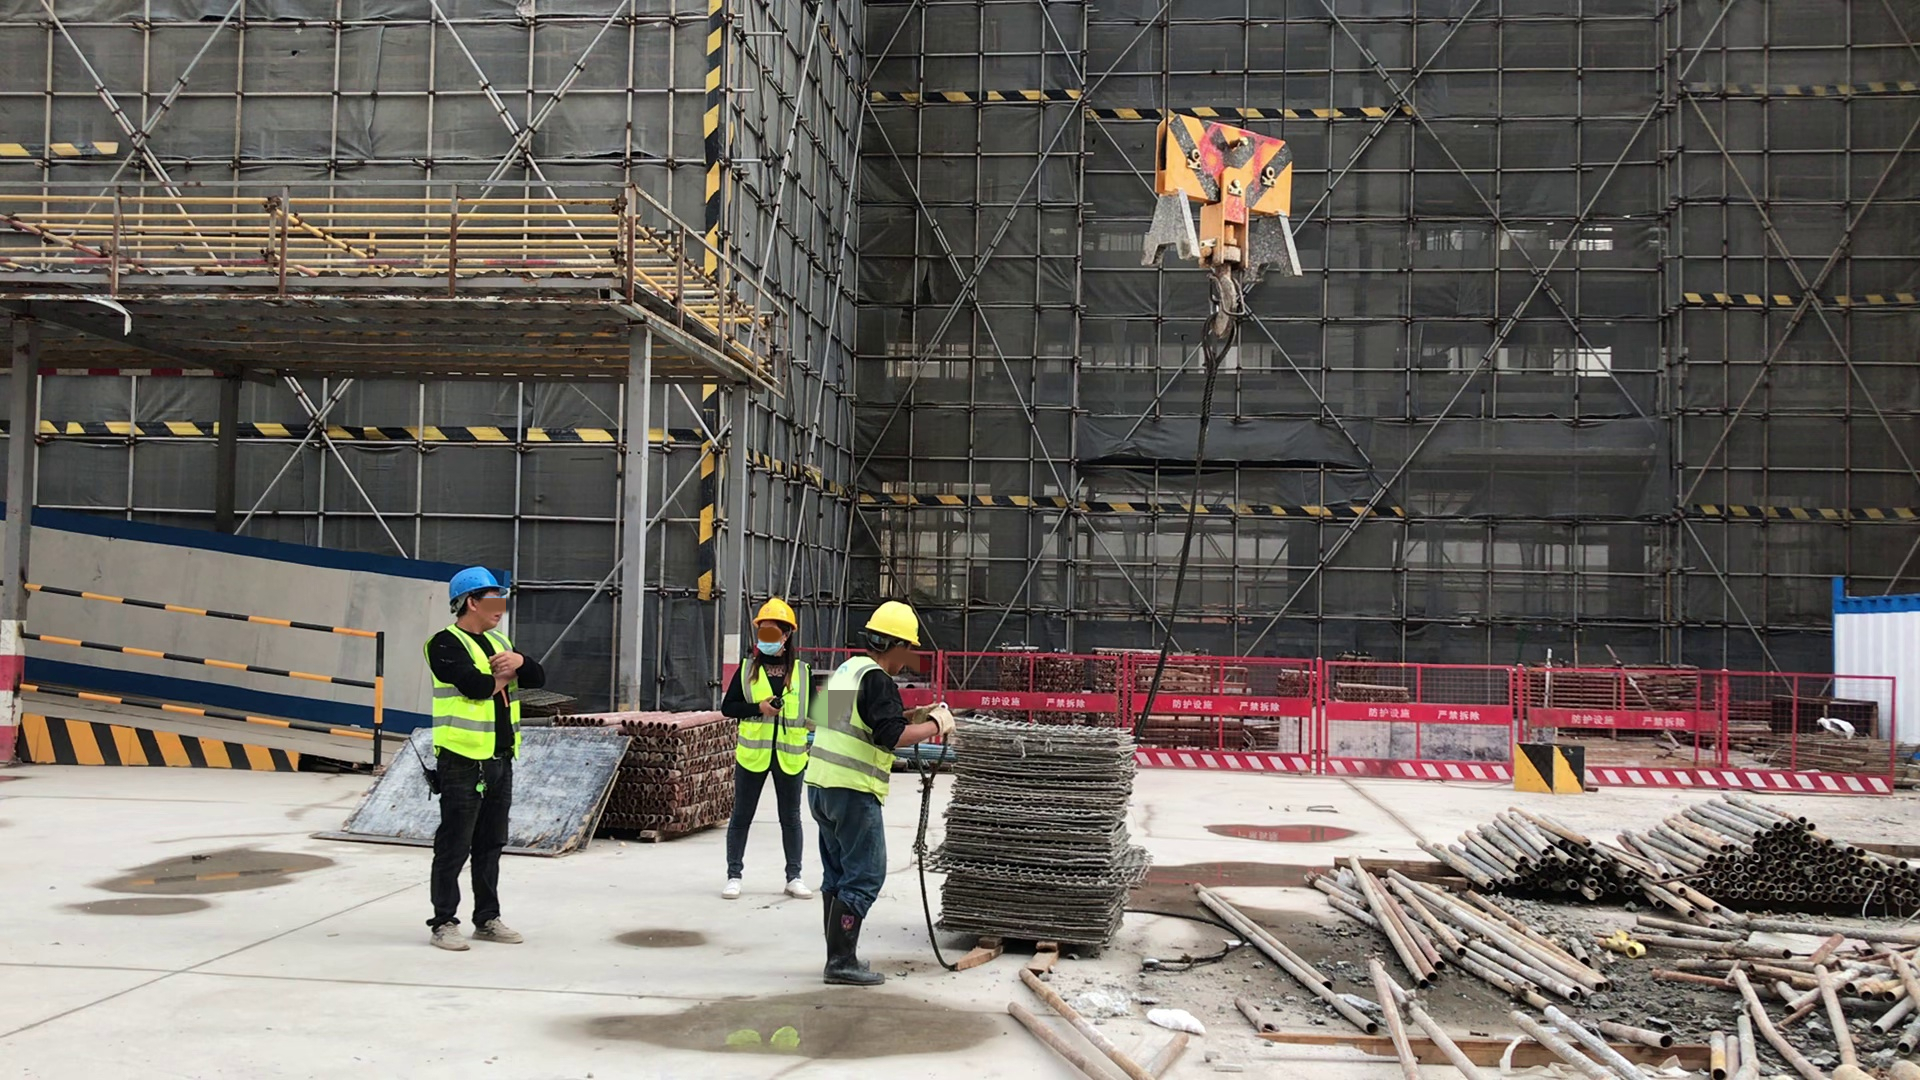fence: (40, 582, 388, 749), (1188, 649, 1510, 783), (1589, 668, 1900, 804), (939, 637, 1130, 719)
helmet: (861, 602, 923, 646), (446, 567, 513, 607), (756, 596, 798, 632)
hook: (1134, 112, 1306, 338)
person: (805, 599, 955, 984), (417, 567, 549, 954), (720, 596, 816, 903)
scaffold: (1652, 786, 1920, 924), (1414, 802, 1648, 906), (621, 704, 721, 843)
vest: (802, 656, 898, 802), (426, 625, 523, 765), (736, 659, 808, 776)
